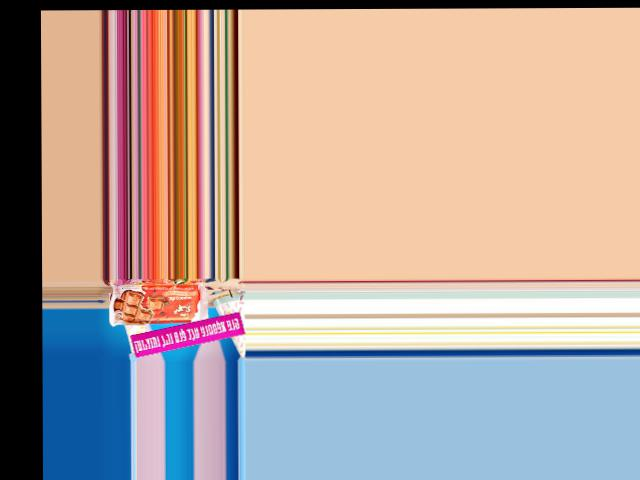chocolate: (106, 281, 210, 327)
